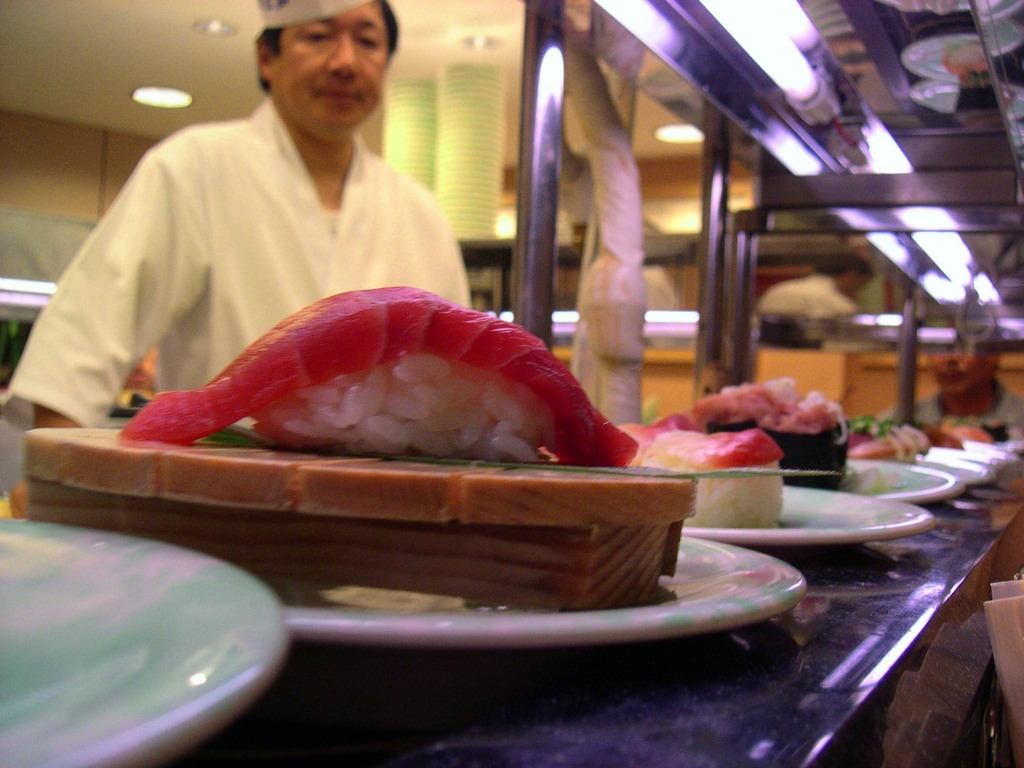sushi: (110, 291, 634, 474)
